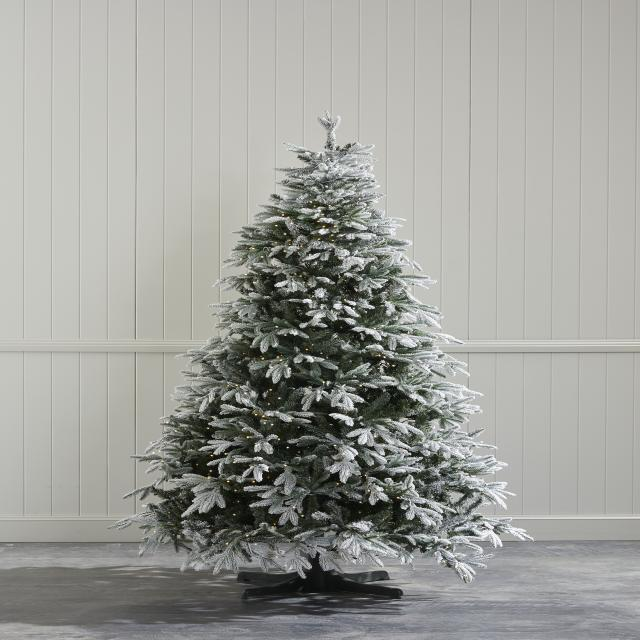Christmas-tree: (117, 110, 526, 568)
